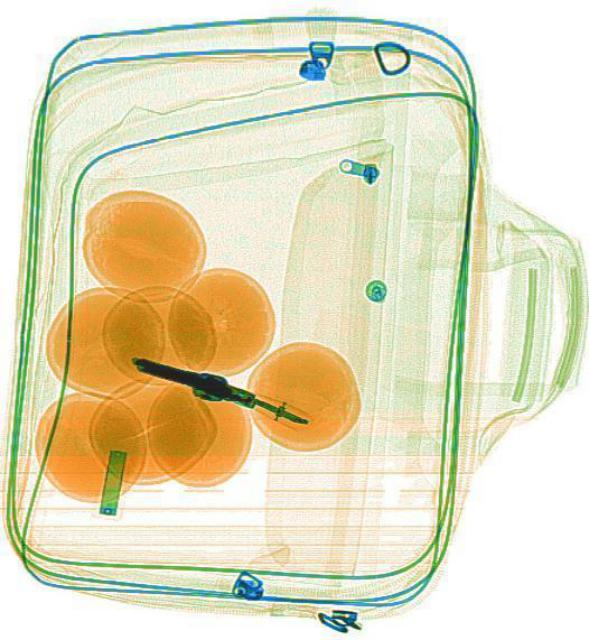Gun: (127, 348, 312, 432)
